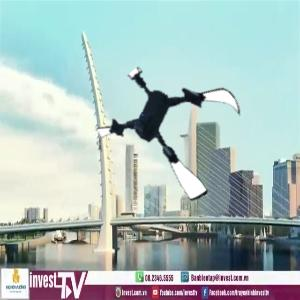drone: (102, 60, 246, 204)
